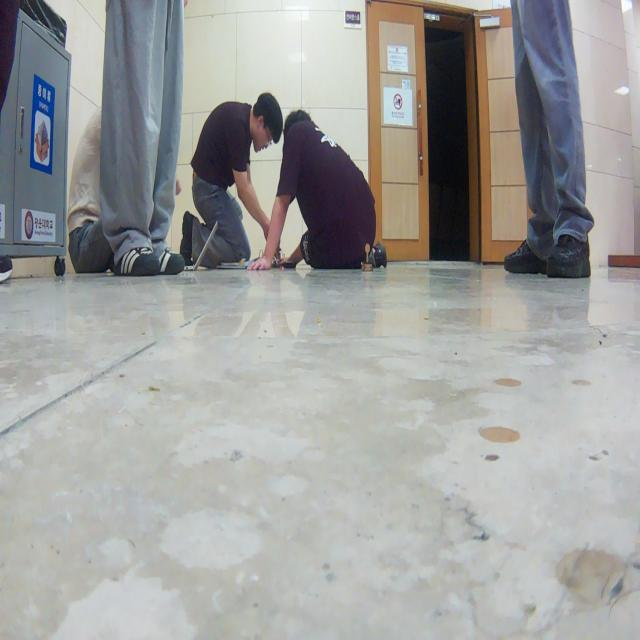target: (361, 243, 373, 273)
